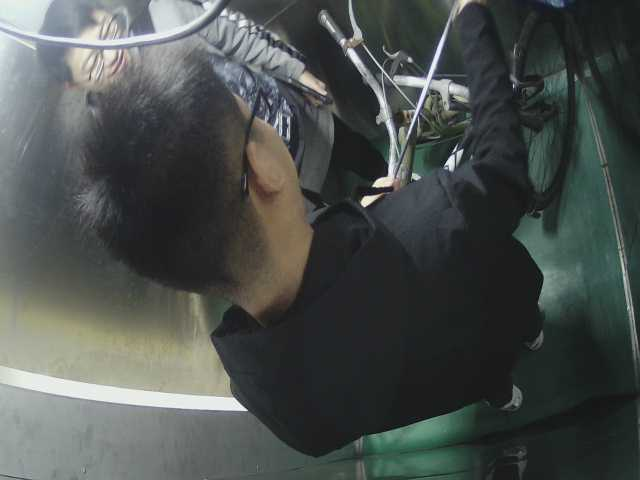bicycle: (306, 7, 630, 194)
person: (70, 48, 545, 437), (26, 1, 332, 123)
